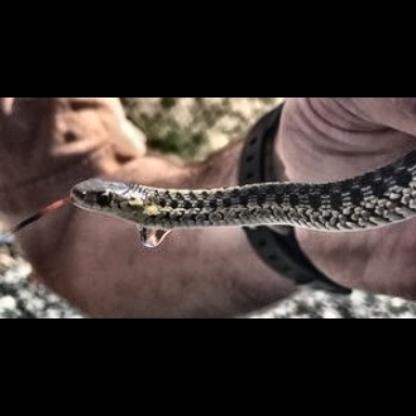Snake: (65, 164, 416, 229)
